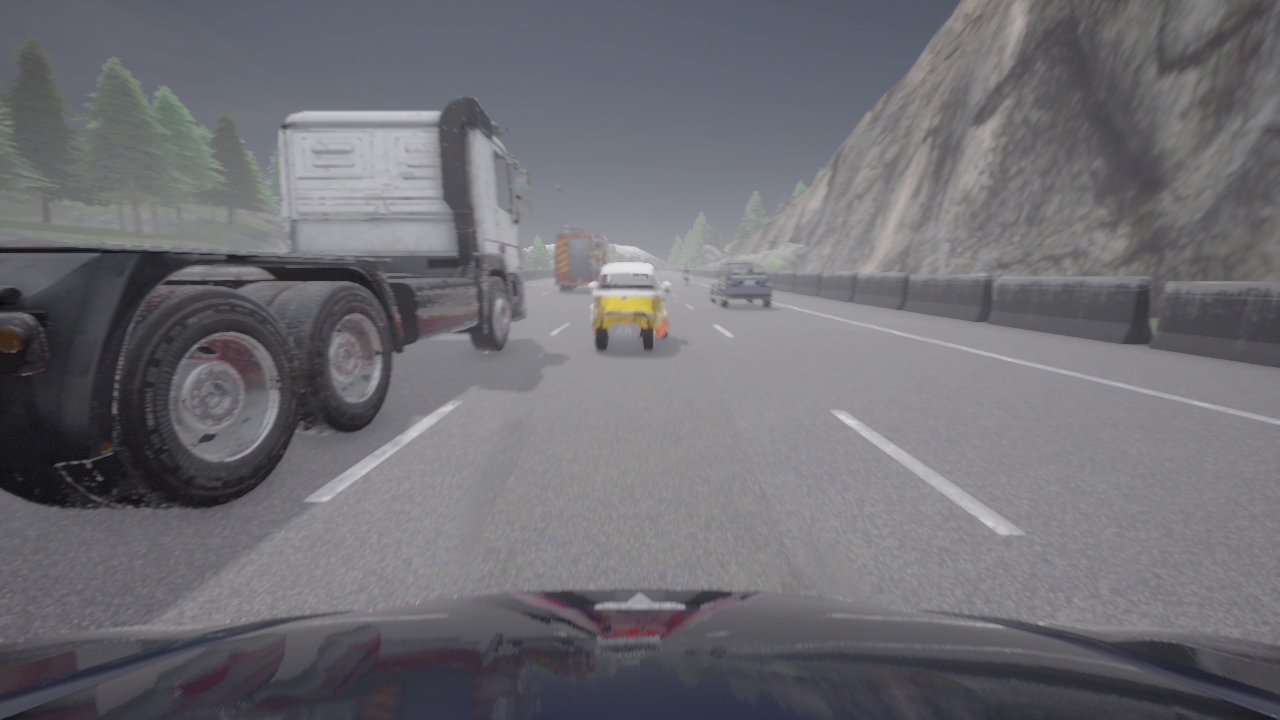cyclist: (0, 96, 530, 510), (0, 588, 1279, 719), (590, 263, 670, 351), (555, 225, 614, 290), (709, 262, 772, 308), (684, 273, 689, 286)
